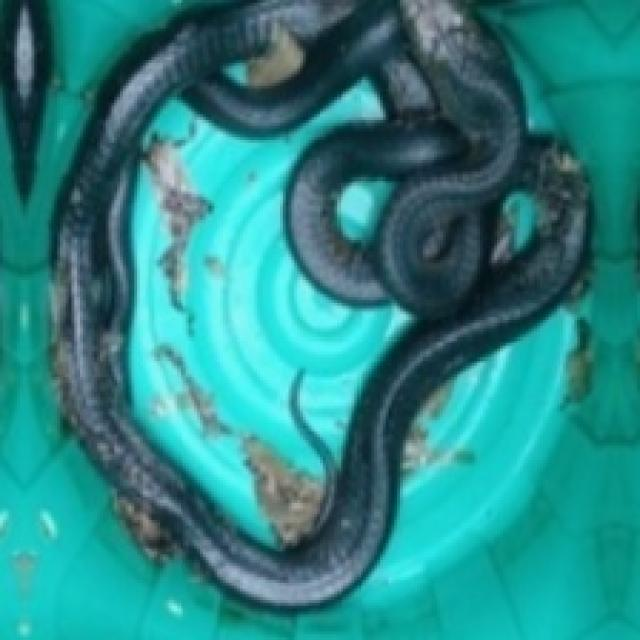king cobra: (54, 0, 586, 606)
